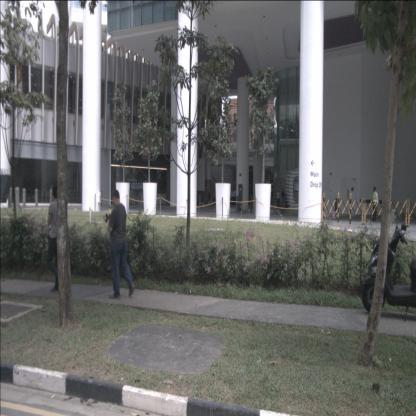human-pedestrian-adult: (103, 190, 134, 299), (46, 184, 62, 293), (275, 187, 281, 209), (280, 188, 286, 210), (206, 187, 212, 206)
vehicle-motorcycle: (362, 227, 416, 322)
